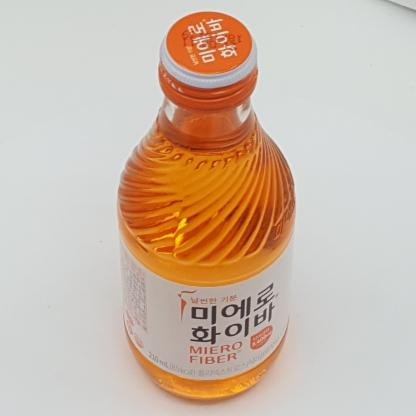--------210ML: (117, 11, 296, 402)
